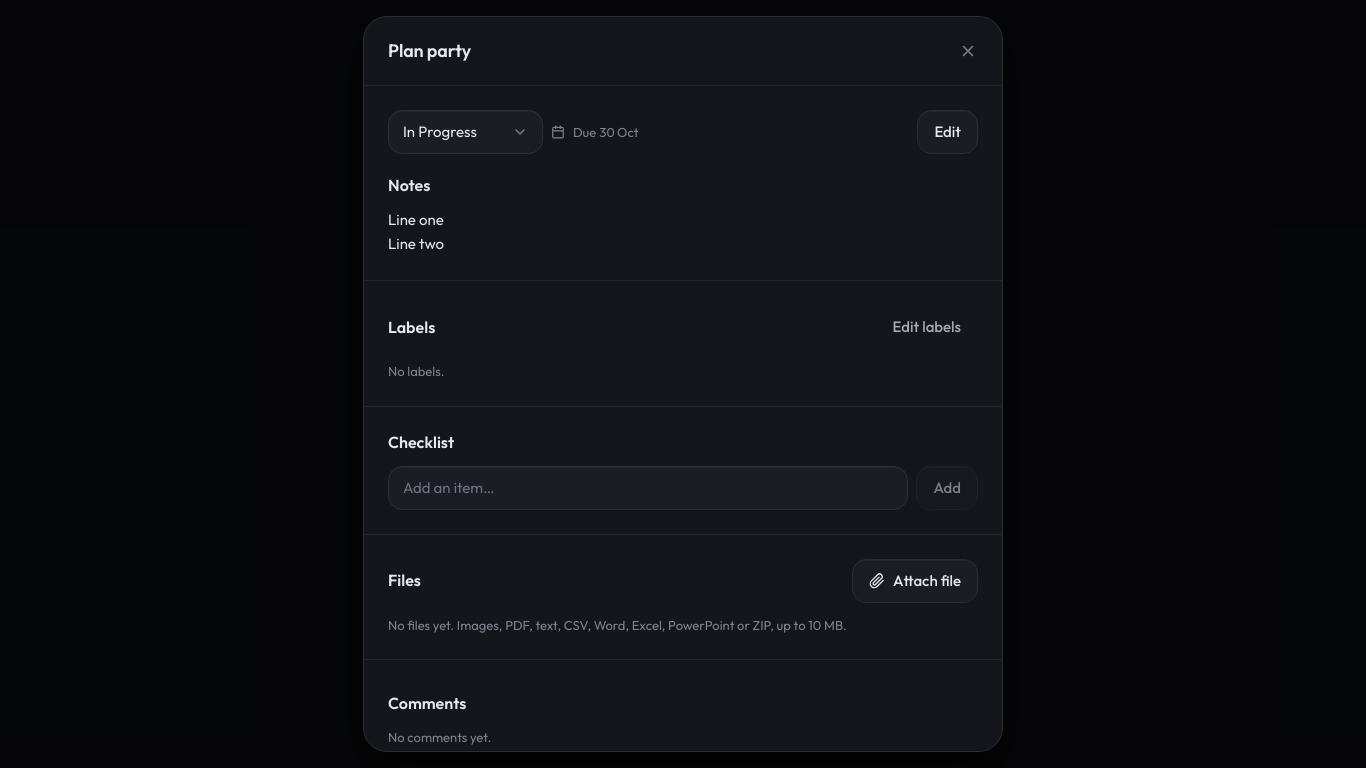
Test: TaskDetails › edits the title, notes and due date through App
Click the button "Edit": (948, 132) left=917, top=110, right=978, bottom=154
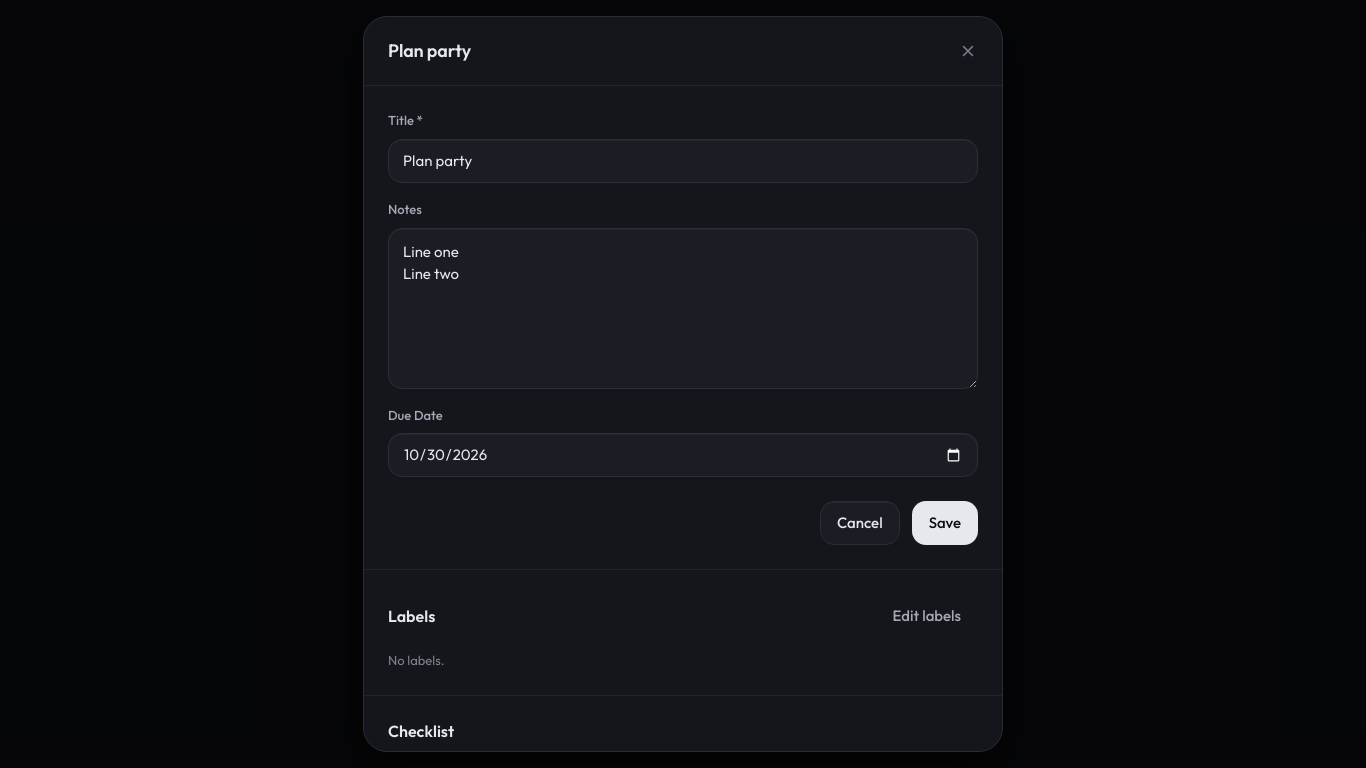
Replace the text in the text box labelled "Notes" with "New notes": (683, 308) left=388, top=228, right=978, bottom=389
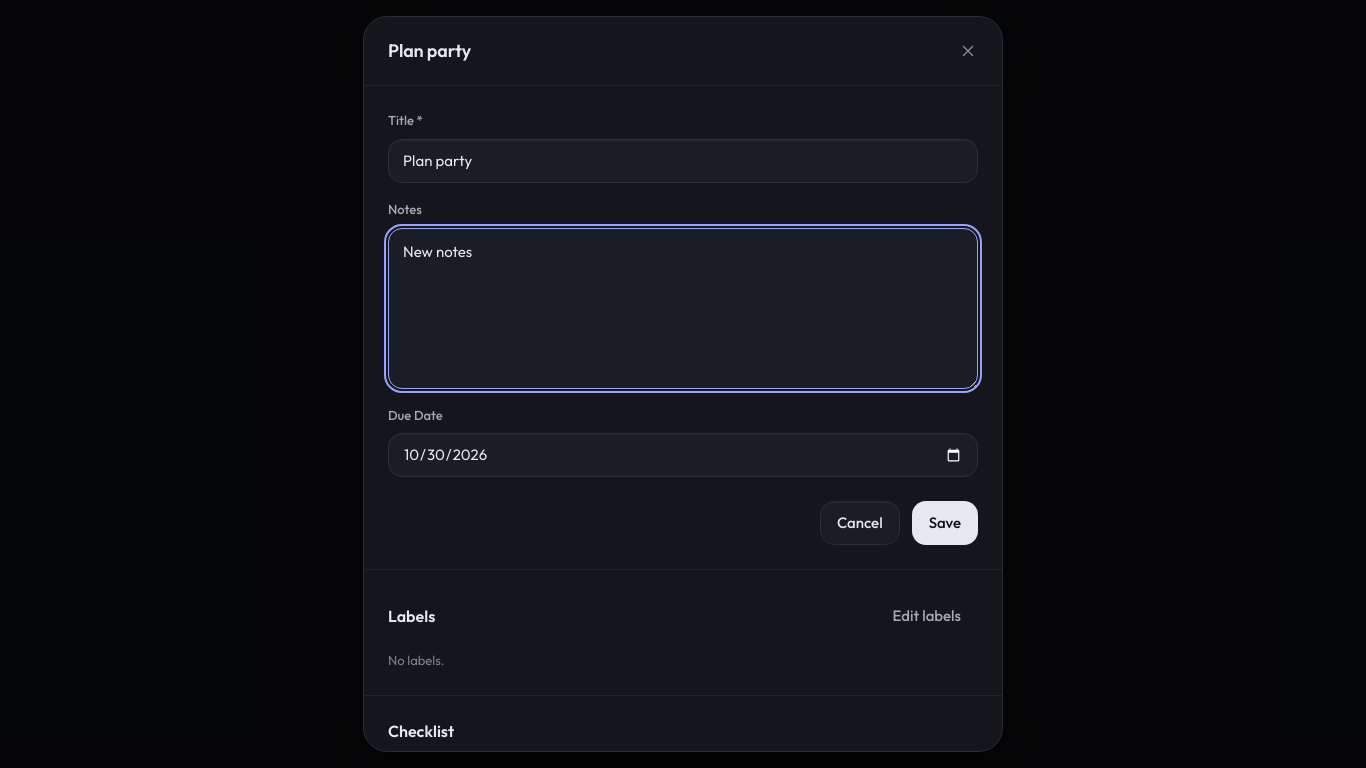
Click the button "Save": (945, 523) left=912, top=501, right=978, bottom=545
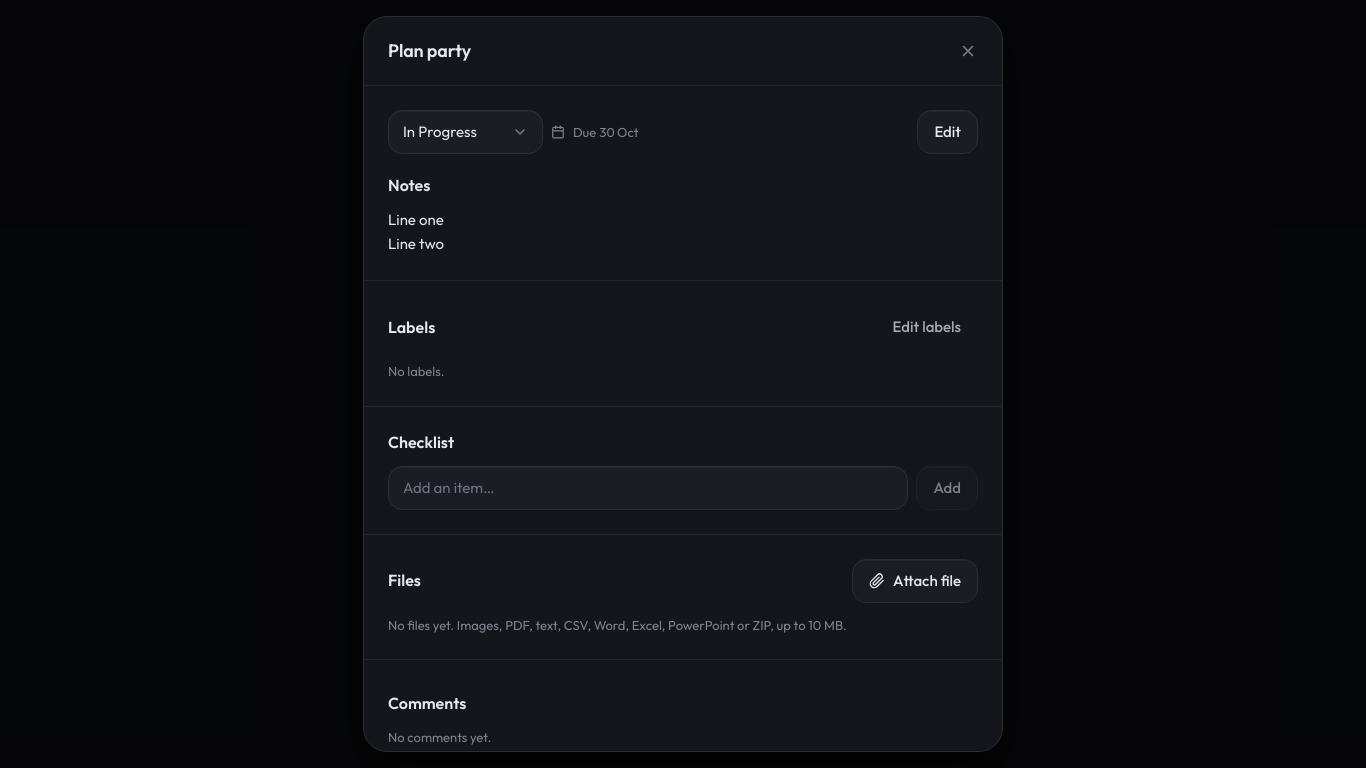
Result: the button "Edit" is shown at left=917, top=110, right=978, bottom=154
